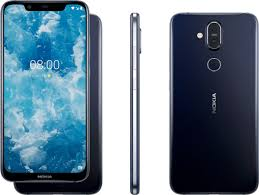nokia: (166, 10, 258, 195)
